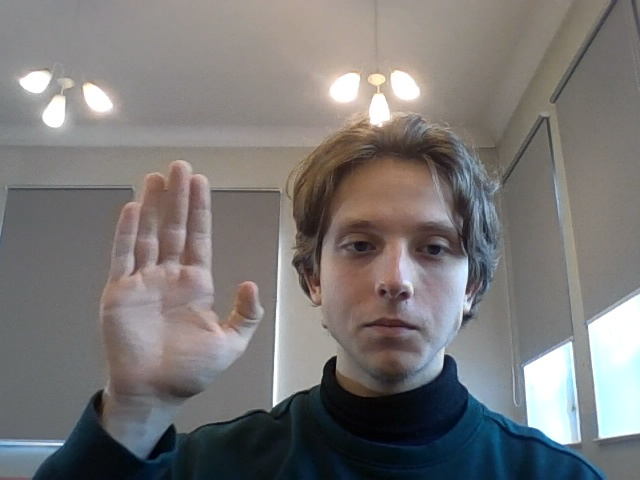hello: (99, 161, 269, 396)
